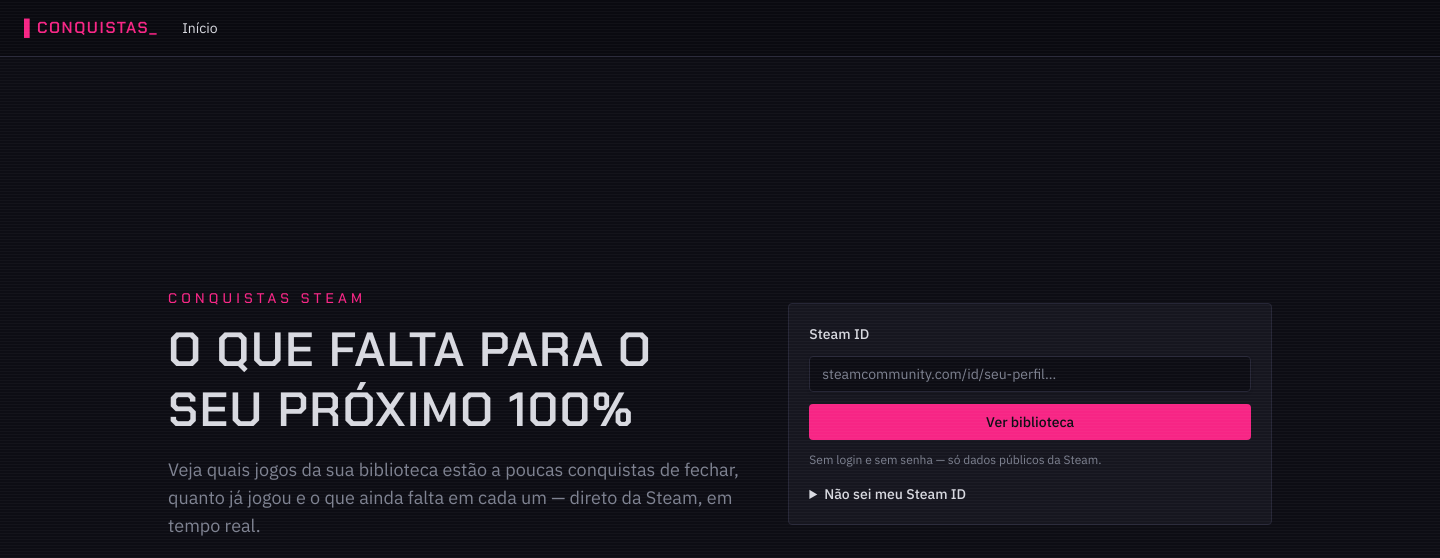
it: Home › mostra o erro do backend e não grava nada quando o nome não existe
This screenshot has width=1440, height=558.
Step 1. Type "nao-existe" into the field labelled "Steam ID" → [1030, 374], box [809, 356, 1251, 392]
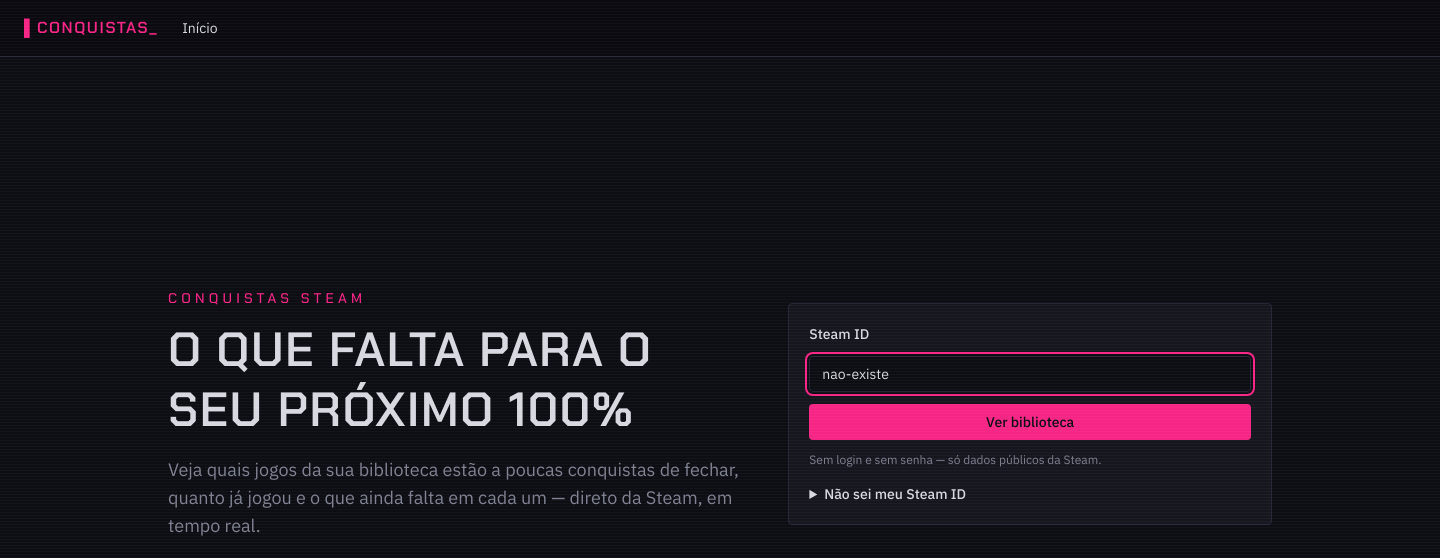
Step 2. Click the button "Ver biblioteca" → [1030, 422], box [809, 404, 1251, 440]
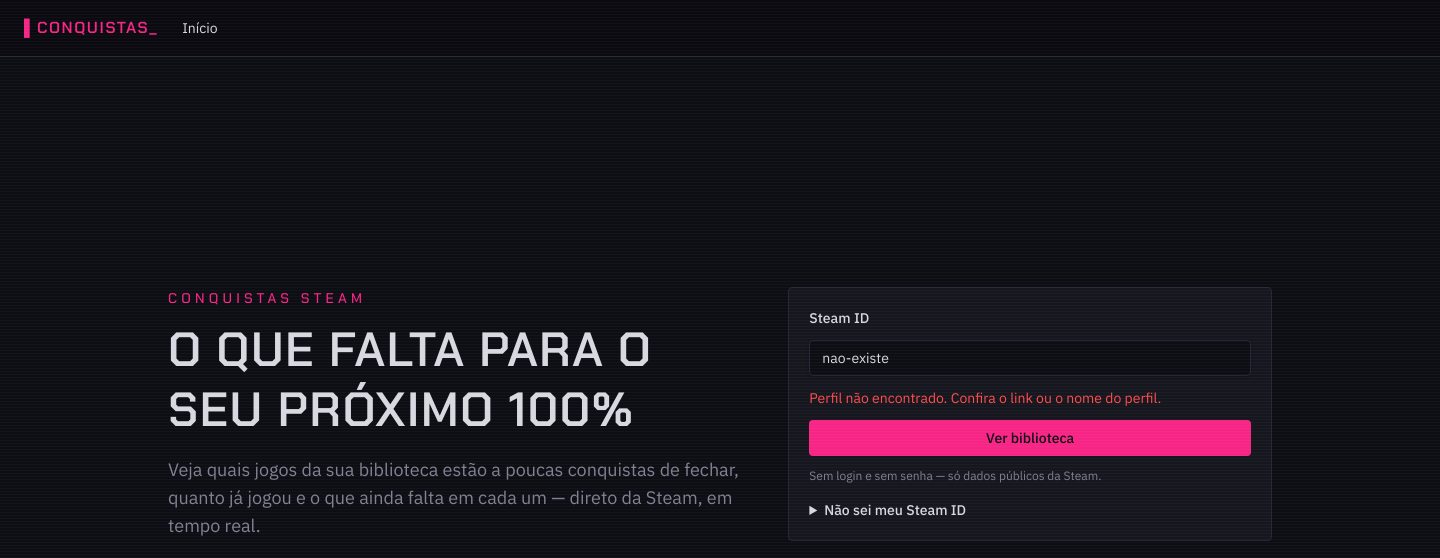
Expected: the text "Perfil não encontrado. Confira o link ou o nome do perfil." is shown, [809, 389, 1161, 407]
